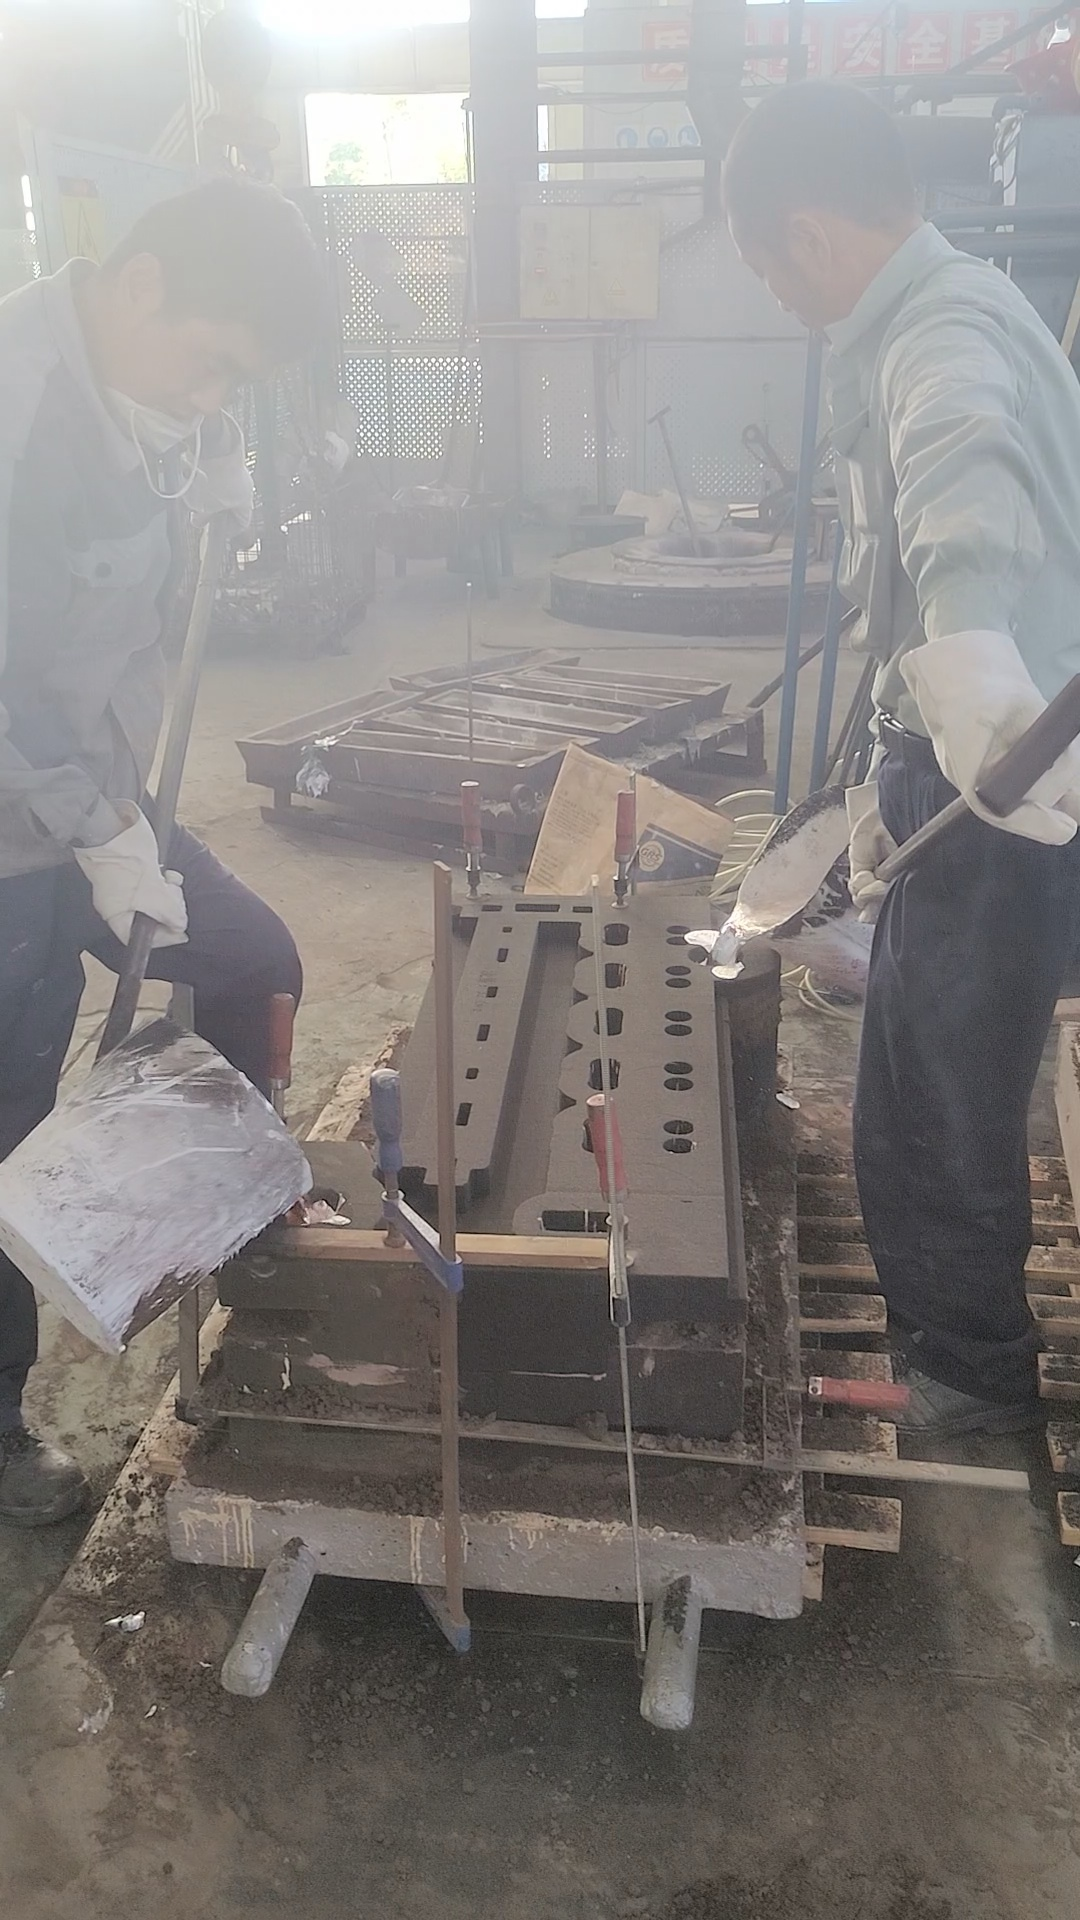pouring hole: (276, 1187, 348, 1226), (688, 942, 746, 967)
